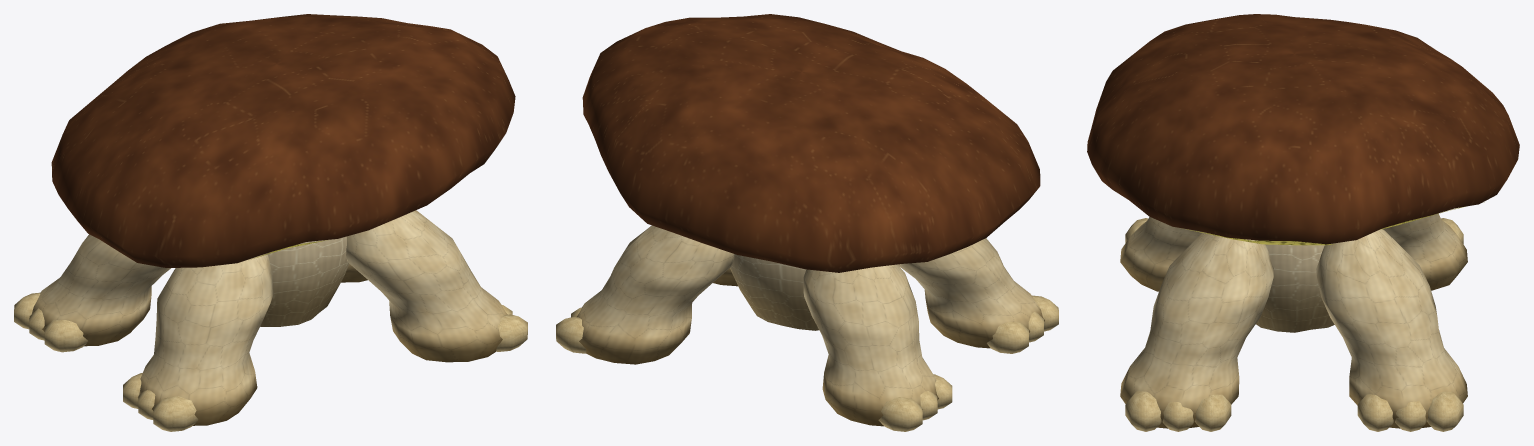
The model's file is cep_bulwark_battle.glb.
The picture shows the model from 3 angles, left to right: view 1: azimuth 30°, elevation 25°; view 2: azimuth 150°, elevation 25°; view 3: azimuth 270°, elevation 25°; orthographic projection. The views are drawn at different scales.
Visible parts, largest first — view 1: CepBulwark_battle; view 2: CepBulwark_battle; view 3: CepBulwark_battle.
Boxes of the visible parts, bbox=[...] form: CepBulwark_battle: bbox=[14, 14, 527, 431]; CepBulwark_battle: bbox=[556, 14, 1058, 431]; CepBulwark_battle: bbox=[1087, 14, 1519, 431].
Size of the model in its own units: 2.53 by 1.62 by 2.12.
Materials: 1 (1 with a texture image).
